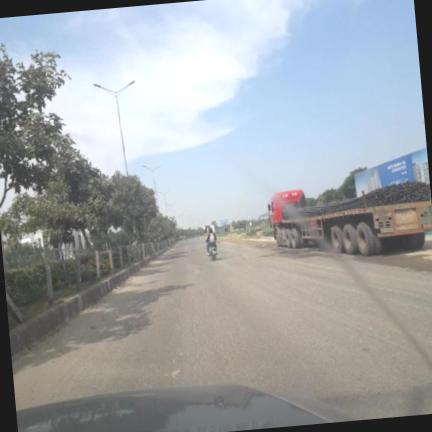Road: (12, 239, 431, 418)
